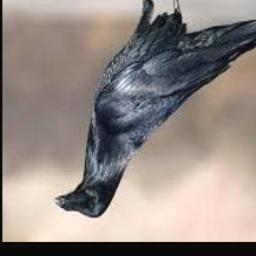Crow: (54, 0, 256, 220)
